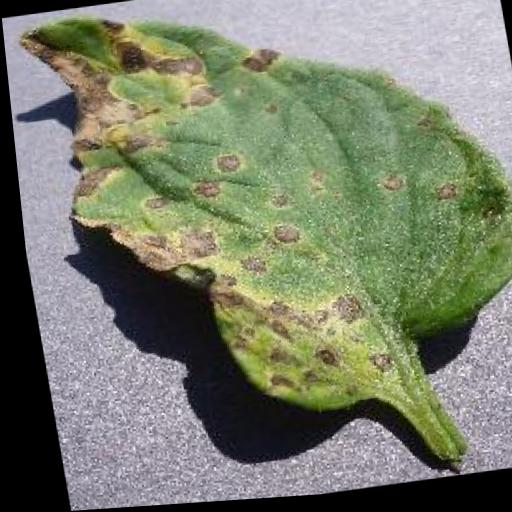Septoria: (11, 0, 512, 451)
